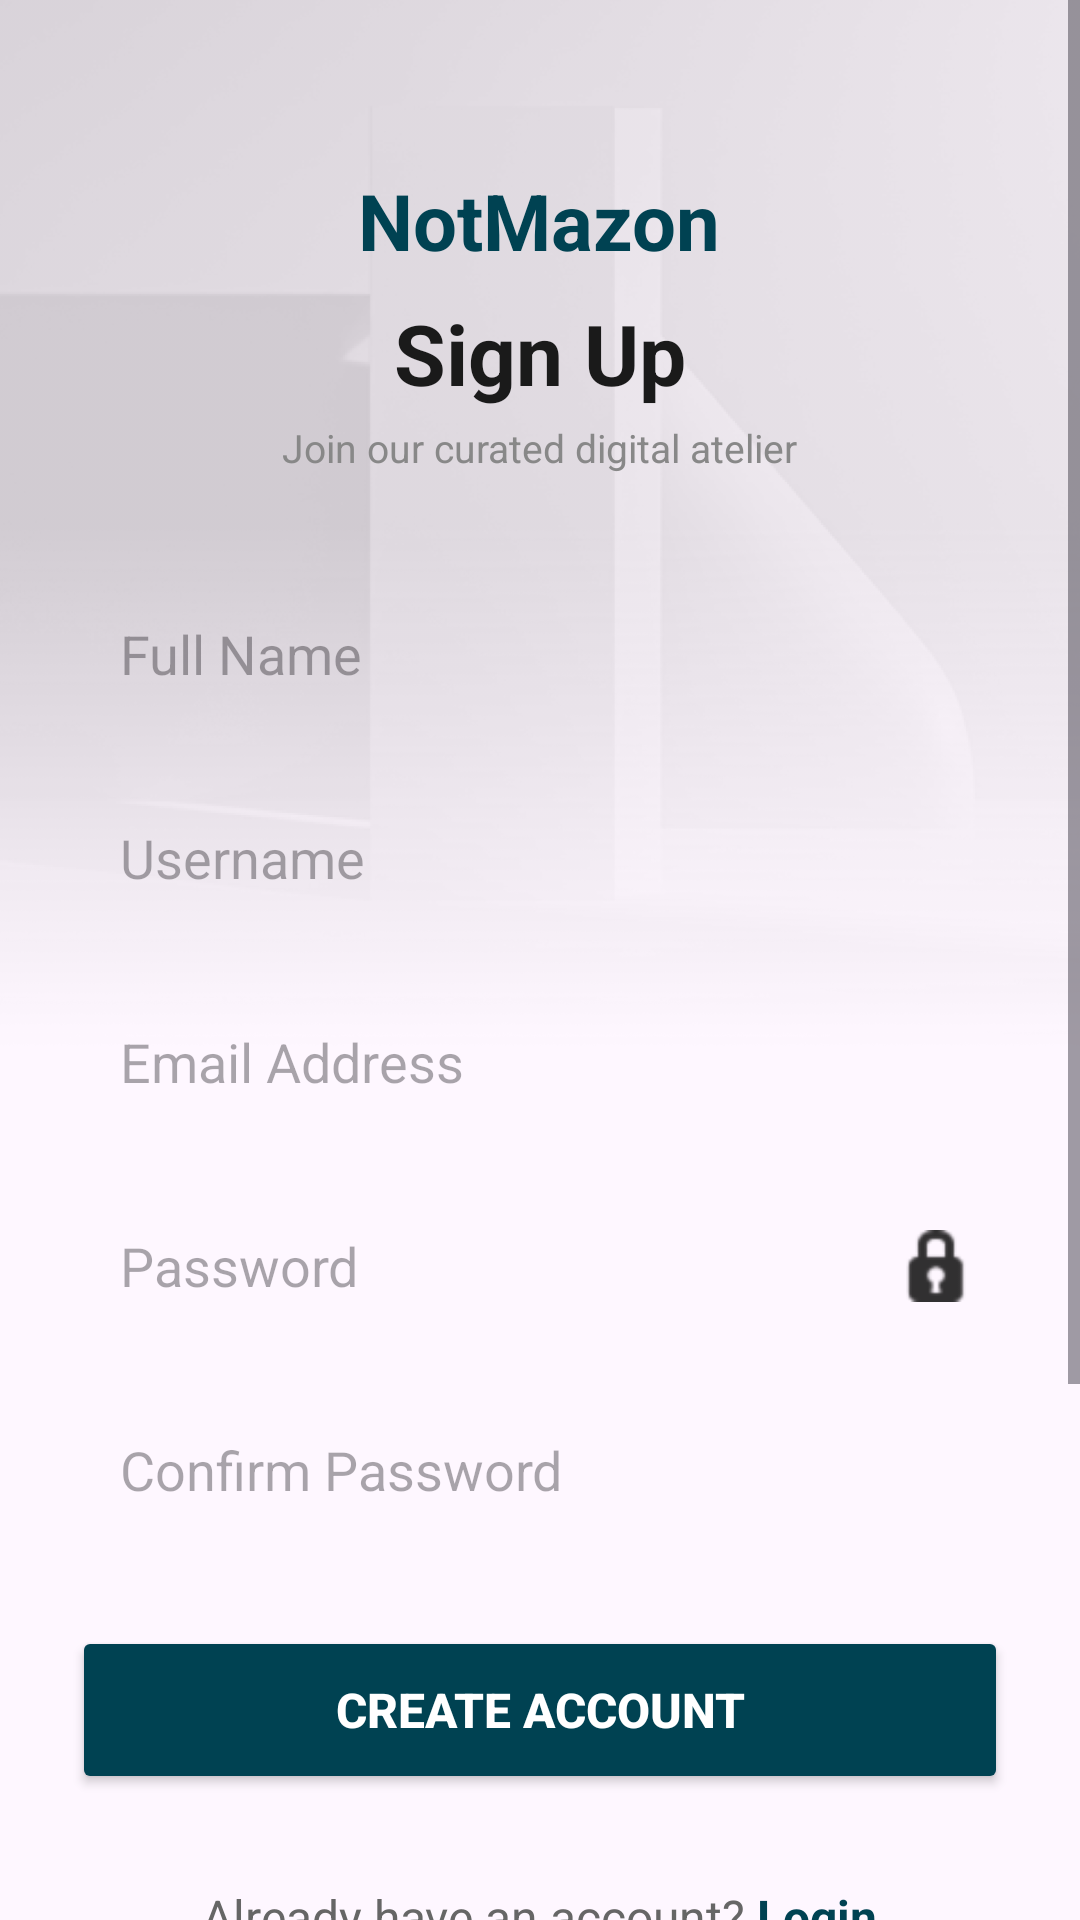

Screen size 1080px x 1920px. Icon name, then its center in pixels as (x=x, y=y):
secure: (x=935, y=1266)
